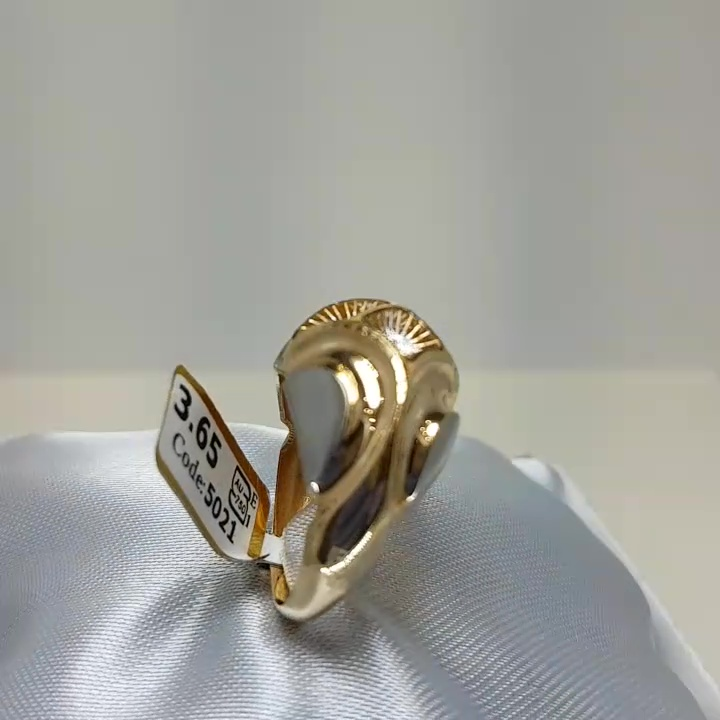Ring 2: (199, 266, 507, 633)
